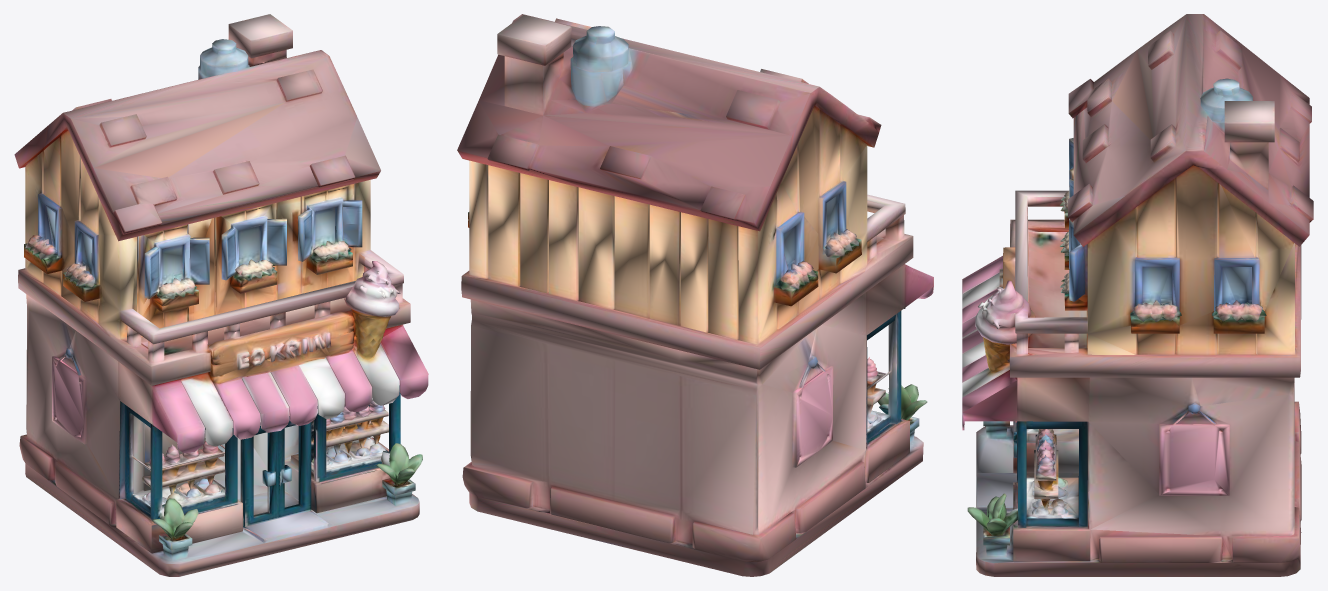
File: es-krim.glb
3 renders of one model, left to right at view 1: azimuth 30°, elevation 25°; view 2: azimuth 150°, elevation 25°; view 3: azimuth 270°, elevation 25°, orthographic. The views are drawn at different scales.
Parts seen in each view (by area): view 1: node_0; view 2: node_0; view 3: node_0.
Part boxes in pixels (x1=…): node_0: x1=14, y1=14, x2=428, y2=576; node_0: x1=457, y1=14, x2=933, y2=576; node_0: x1=962, y1=14, x2=1313, y2=576.
Bounding box in the file's own units: 0.6561 × 0.8908 × 0.6357.
1 material, 1 textured.
